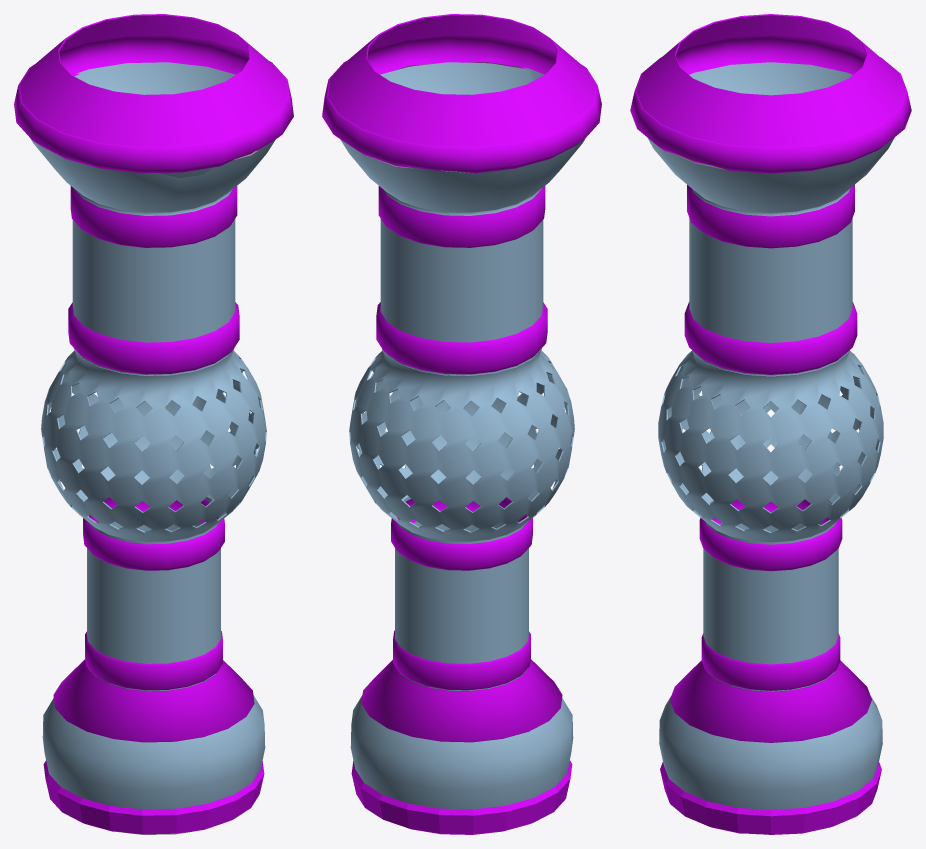
The model's file is kerplunk.FBX.
3 views of the same model, side by side, from view 1: azimuth 30°, elevation 25°; view 2: azimuth 150°, elevation 25°; view 3: azimuth 270°, elevation 25° (orthographic).
Visible parts, largest first — view 1: Sphere001, Object001; view 2: Sphere001, Object001; view 3: Sphere001, Object001.
Boxes of the visible parts, bbox=[...] form: Sphere001: bbox=[14, 14, 293, 834]; Object001: bbox=[41, 349, 266, 541]; Sphere001: bbox=[322, 14, 601, 834]; Object001: bbox=[349, 349, 574, 541]; Sphere001: bbox=[630, 14, 911, 834]; Object001: bbox=[658, 350, 883, 542].
Size of the model in its own units: 97.16 by 281 by 97.16.
3 materials, 1 textured.
